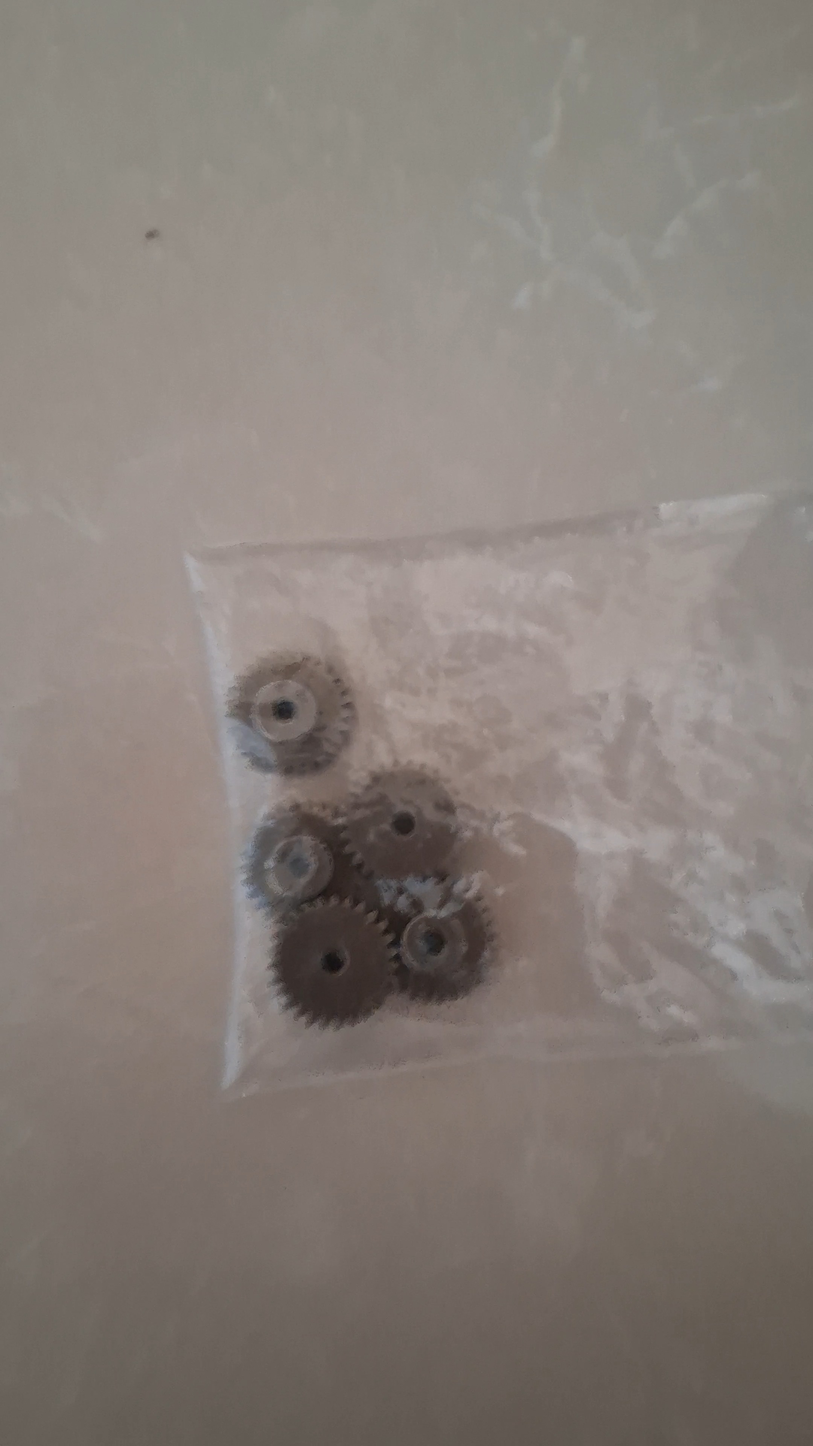spur gear: (270, 897, 394, 1027), (227, 654, 354, 775), (344, 769, 457, 879), (398, 888, 493, 1001), (244, 808, 341, 909)
